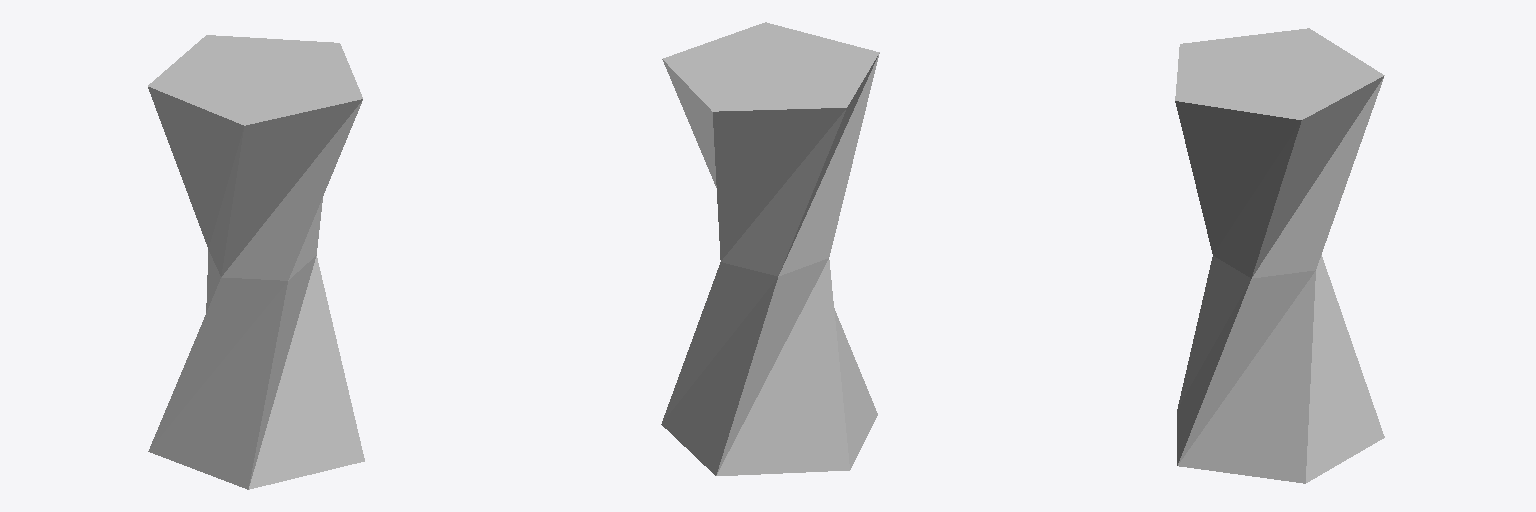
The model's file is Morphy.obj.
3 views of the same model, side by side, from view 1: azimuth 30°, elevation 25°; view 2: azimuth 150°, elevation 25°; view 3: azimuth 270°, elevation 25° (orthographic).
Visible parts, largest first — view 1: Morphy_Cylinder.003; view 2: Morphy_Cylinder.003; view 3: Morphy_Cylinder.003.
Part boxes in pixels (left/top/right/bottom): Morphy_Cylinder.003: left=148, top=35, right=364, bottom=489; Morphy_Cylinder.003: left=661, top=22, right=879, bottom=475; Morphy_Cylinder.003: left=1175, top=28, right=1384, bottom=483.
Bounding box in the file's own units: 0.9562 × 1.75 × 0.9145.